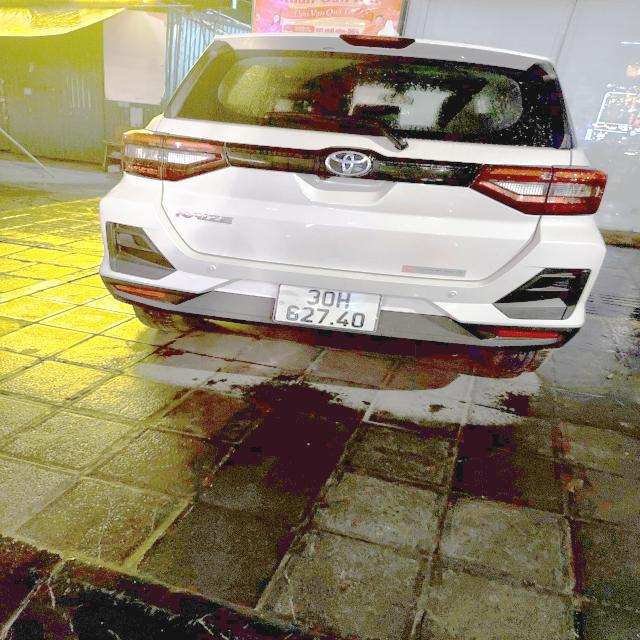license_plate: (269, 281, 389, 338)
